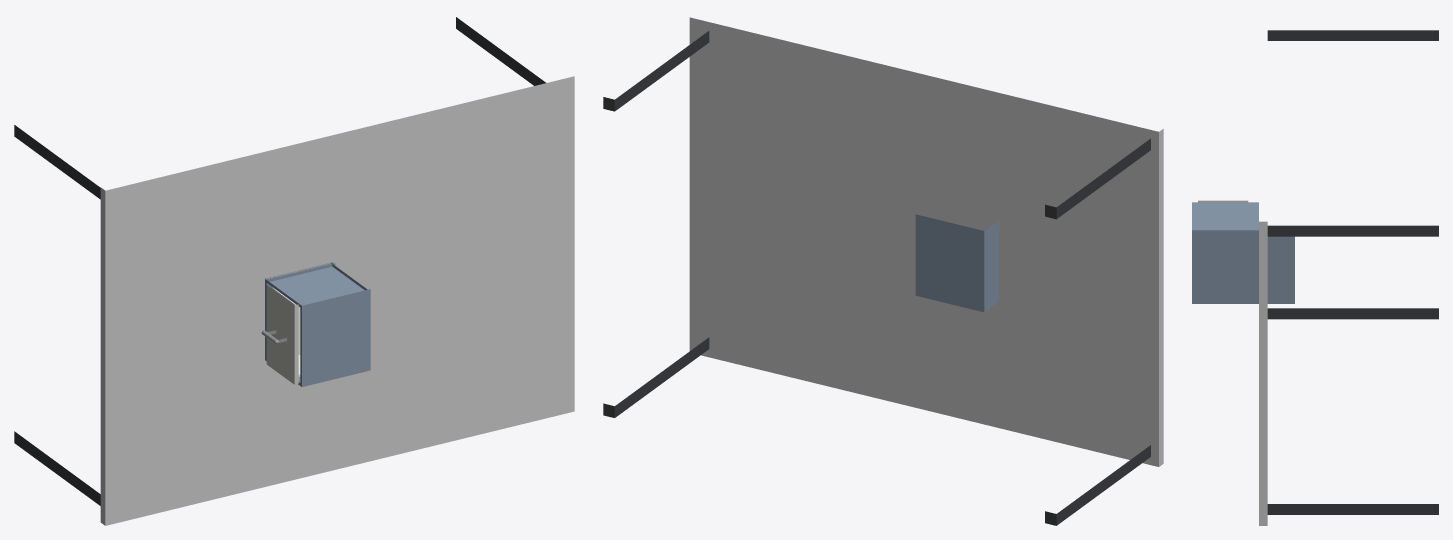
3 views of the same model, side by side, from view 1: azimuth 30°, elevation 25°; view 2: azimuth 150°, elevation 25°; view 3: azimuth 270°, elevation 25° (orthographic). The views are drawn at different scales.
Visible parts, largest first — view 1: s0, s1, s2; view 2: s0, s1; view 3: s0, s1.
Boxes of the visible parts, x1,y1,x2,y2 form: s0: (14, 17, 574, 525); s1: (265, 262, 370, 386); s2: (261, 285, 300, 384); s0: (603, 17, 1163, 525); s1: (915, 214, 999, 312); s0: (1259, 30, 1438, 525); s1: (1192, 202, 1294, 303).
Bounding box in the file's own units: 2.05 × 1.4 × 1.03.
